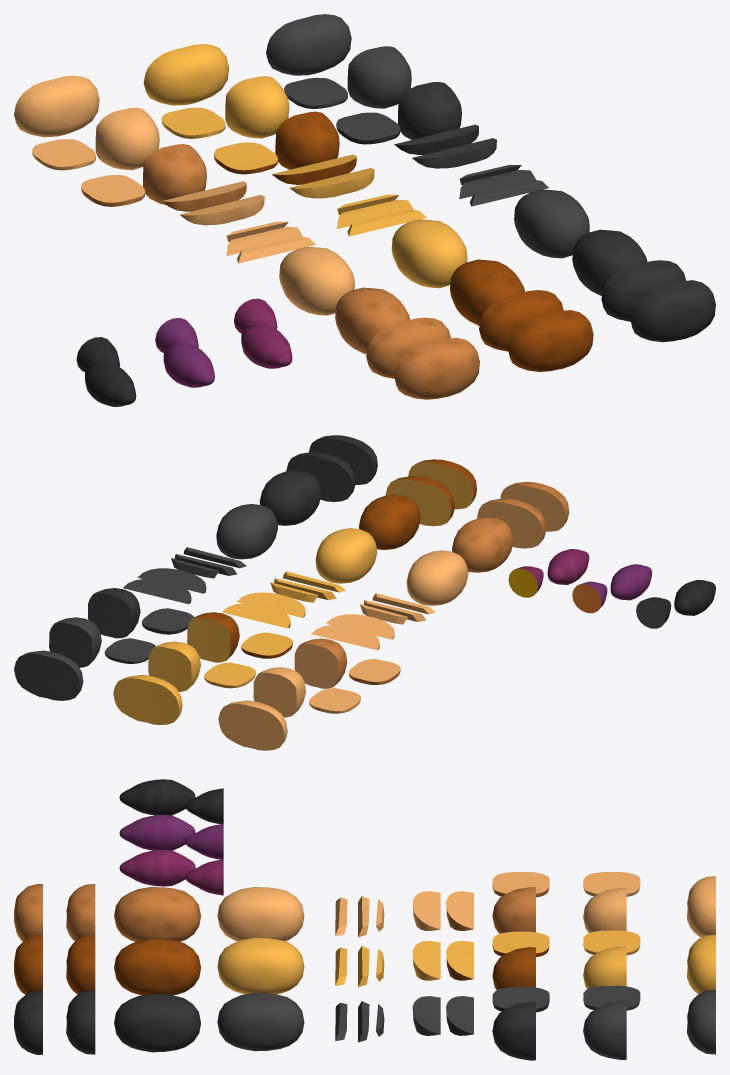
Rendered from potato.fbx.
3 views of the same model, one above another, from view 1: azimuth 30°, elevation 25°; view 2: azimuth 150°, elevation 25°; view 3: azimuth 270°, elevation 25° (orthographic). The views are drawn at different scales.
Visible parts, largest first — view 1: potato_Half_1, potato_Half_1_Cooked, potato_Peeled_Half_1_Burnt, potato_Peeled_Half_1_Cooked, potato_Half_1_Burnt, potato_Peeled_Half_1, potato_Peeled_Cooked, potato_Peeled_Burnt, potato_Peeled, potato_Peeled_Half_Burnt, potato_Peeled_Half_Cooked, potato_Peeled_Half (+33 smaller); view 2: potato_Peeled, potato_Peeled_Half_1_Burnt, potato_Peeled_Half_1, potato_Peeled_Burnt, potato_Peeled_Half_1_Cooked, potato_Peeled_Cooked, potato, potato_Burnt, potato_Cooked, potato_Half, potato_Half_Cooked, potato_Half_Burnt (+28 smaller); view 3: potato_Burnt, potato_Peeled_Burnt, potato_Cooked, potato_Peeled_Cooked, potato, potato_Peeled, potato_Peeled_Half_Burnt, potato_Half_Burnt, sweetPotato, sweetPotato_Burnt, sweetPotato_Cooked, potato_Half (+27 smaller).
Boxes of the visible parts, bbox=[...] form: potato_Half_1: bbox=[394, 337, 479, 399]; potato_Half_1_Cooked: bbox=[508, 310, 593, 371]; potato_Peeled_Half_1_Burnt: bbox=[266, 14, 351, 75]; potato_Peeled_Half_1_Cooked: bbox=[143, 44, 229, 105]; potato_Half_1_Burnt: bbox=[630, 280, 715, 342]; potato_Peeled_Half_1: bbox=[14, 75, 99, 137]; potato_Peeled_Cooked: bbox=[391, 219, 467, 288]; potato_Peeled_Burnt: bbox=[514, 189, 589, 258]; potato_Peeled: bbox=[279, 246, 354, 315]; potato_Peeled_Half_Burnt: bbox=[347, 46, 411, 108]; potato_Peeled_Half_Cooked: bbox=[225, 76, 289, 138]; potato_Peeled_Half: bbox=[95, 107, 159, 170]; potato_Peeled: bbox=[406, 550, 468, 605]; potato_Peeled_Half_1_Burnt: bbox=[14, 650, 83, 700]; potato_Peeled_Half_1: bbox=[218, 700, 287, 750]; potato_Peeled_Burnt: bbox=[216, 504, 277, 559]; potato_Peeled_Half_1_Cooked: bbox=[113, 674, 182, 724]; potato_Peeled_Cooked: bbox=[315, 528, 377, 583]; potato: bbox=[452, 517, 513, 572]; potato_Burnt: bbox=[259, 470, 321, 525]; potato_Cooked: bbox=[359, 494, 420, 549]; potato_Half: bbox=[294, 638, 347, 688]; potato_Half_Cooked: bbox=[187, 612, 239, 662]; potato_Half_Burnt: bbox=[88, 588, 140, 638]; potato_Burnt: bbox=[114, 994, 200, 1052]; potato_Peeled_Burnt: bbox=[217, 993, 304, 1051]; potato_Cooked: bbox=[114, 938, 200, 995]; potato_Peeled_Cooked: bbox=[217, 937, 304, 994]; potato: bbox=[114, 887, 200, 941]; potato_Peeled: bbox=[217, 887, 304, 941]; potato_Peeled_Half_Burnt: bbox=[583, 1001, 626, 1059]; potato_Half_Burnt: bbox=[492, 1002, 535, 1060]; sweetPotato: bbox=[119, 850, 195, 886]; sweetPotato_Burnt: bbox=[119, 779, 195, 815]; sweetPotato_Cooked: bbox=[119, 815, 195, 850]; potato_Half: bbox=[492, 887, 535, 933].
Bounding box in the file's own units: 11.04 × 12.89 × 0.985.
